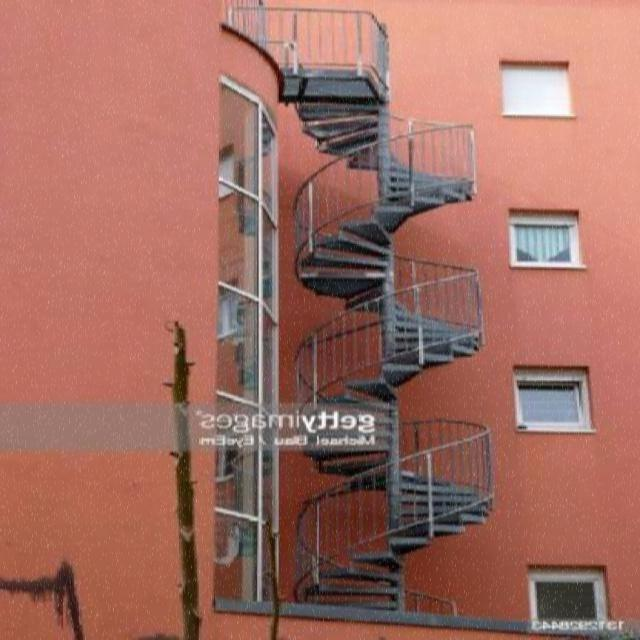stair: (236, 15, 502, 633)
